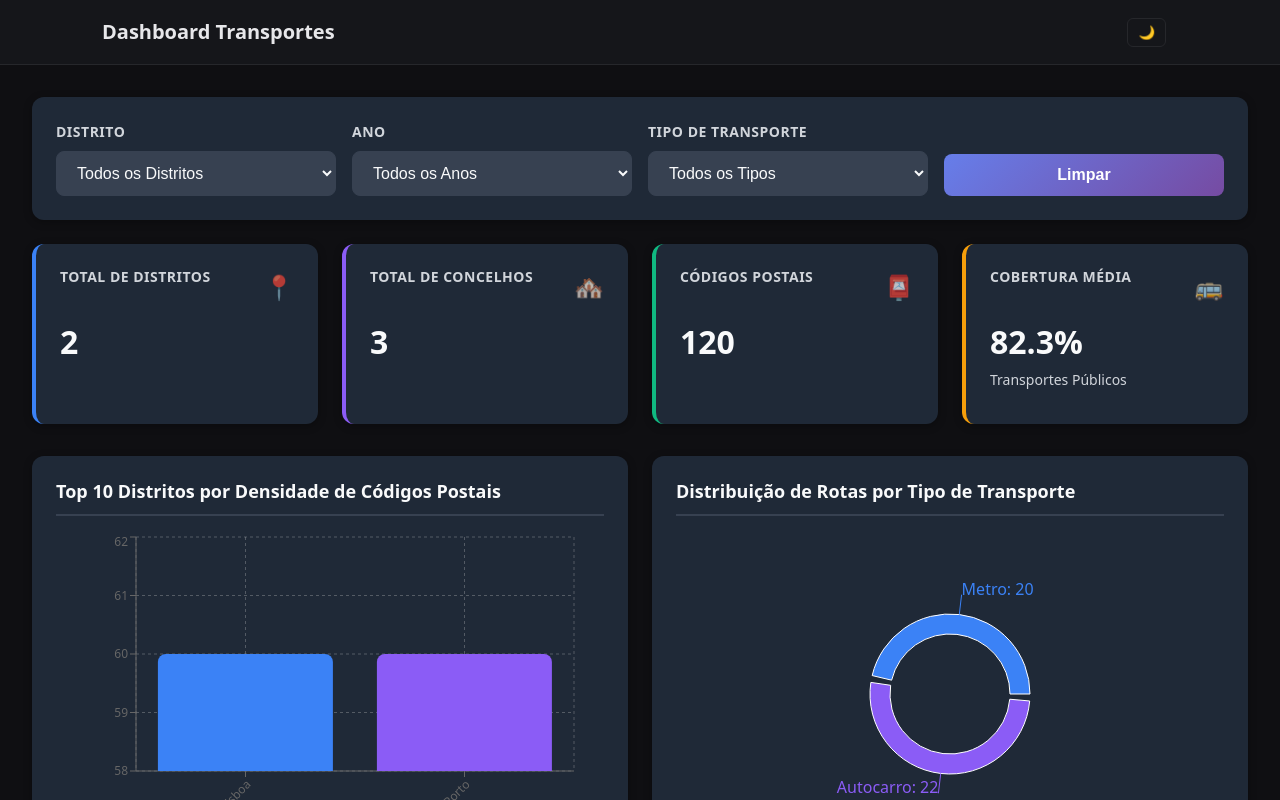
Test: Dashboard - smoke E2E › permite alternar tema pelo botão do cabeçalho
Click the button named "Alternar tema de cor" at (1147, 33), box [1127,18,1166,47]
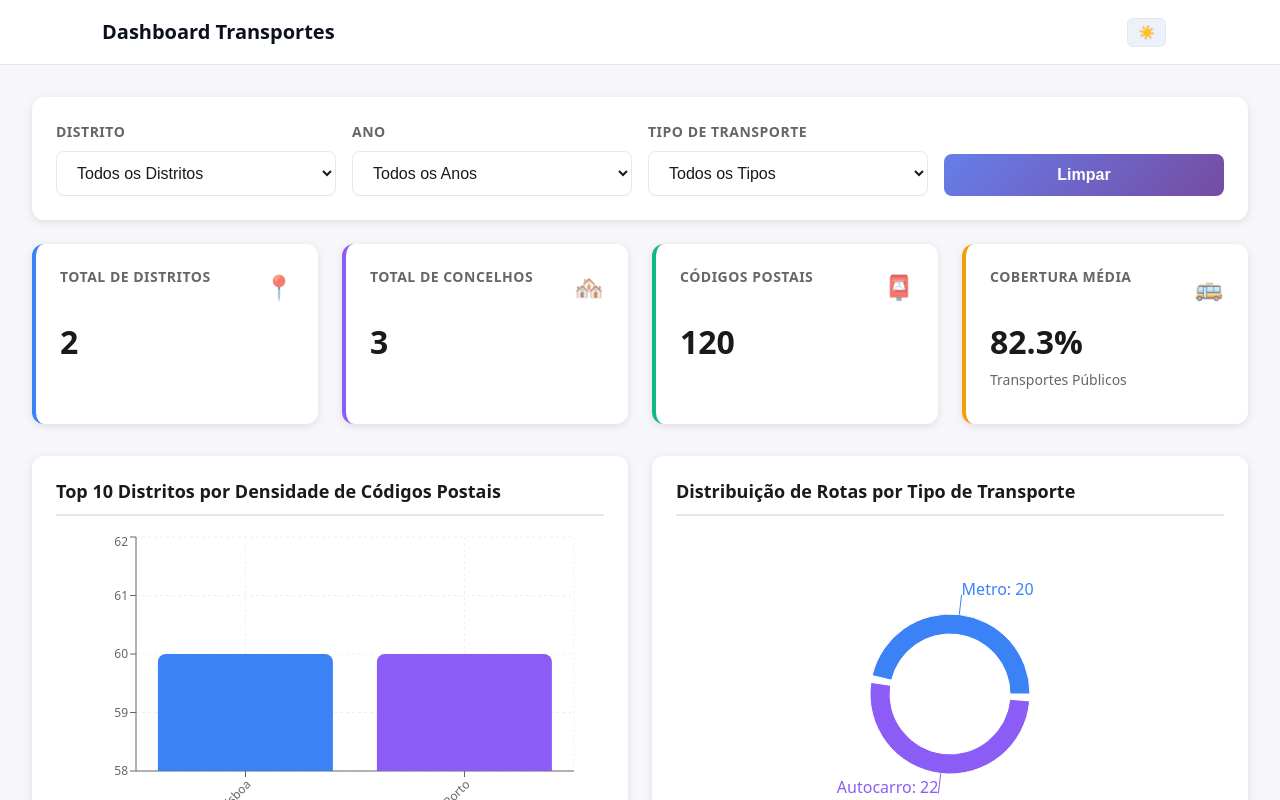
Expected: the button named "Alternar tema de cor" reads "☀️", [1127,18,1166,47]
